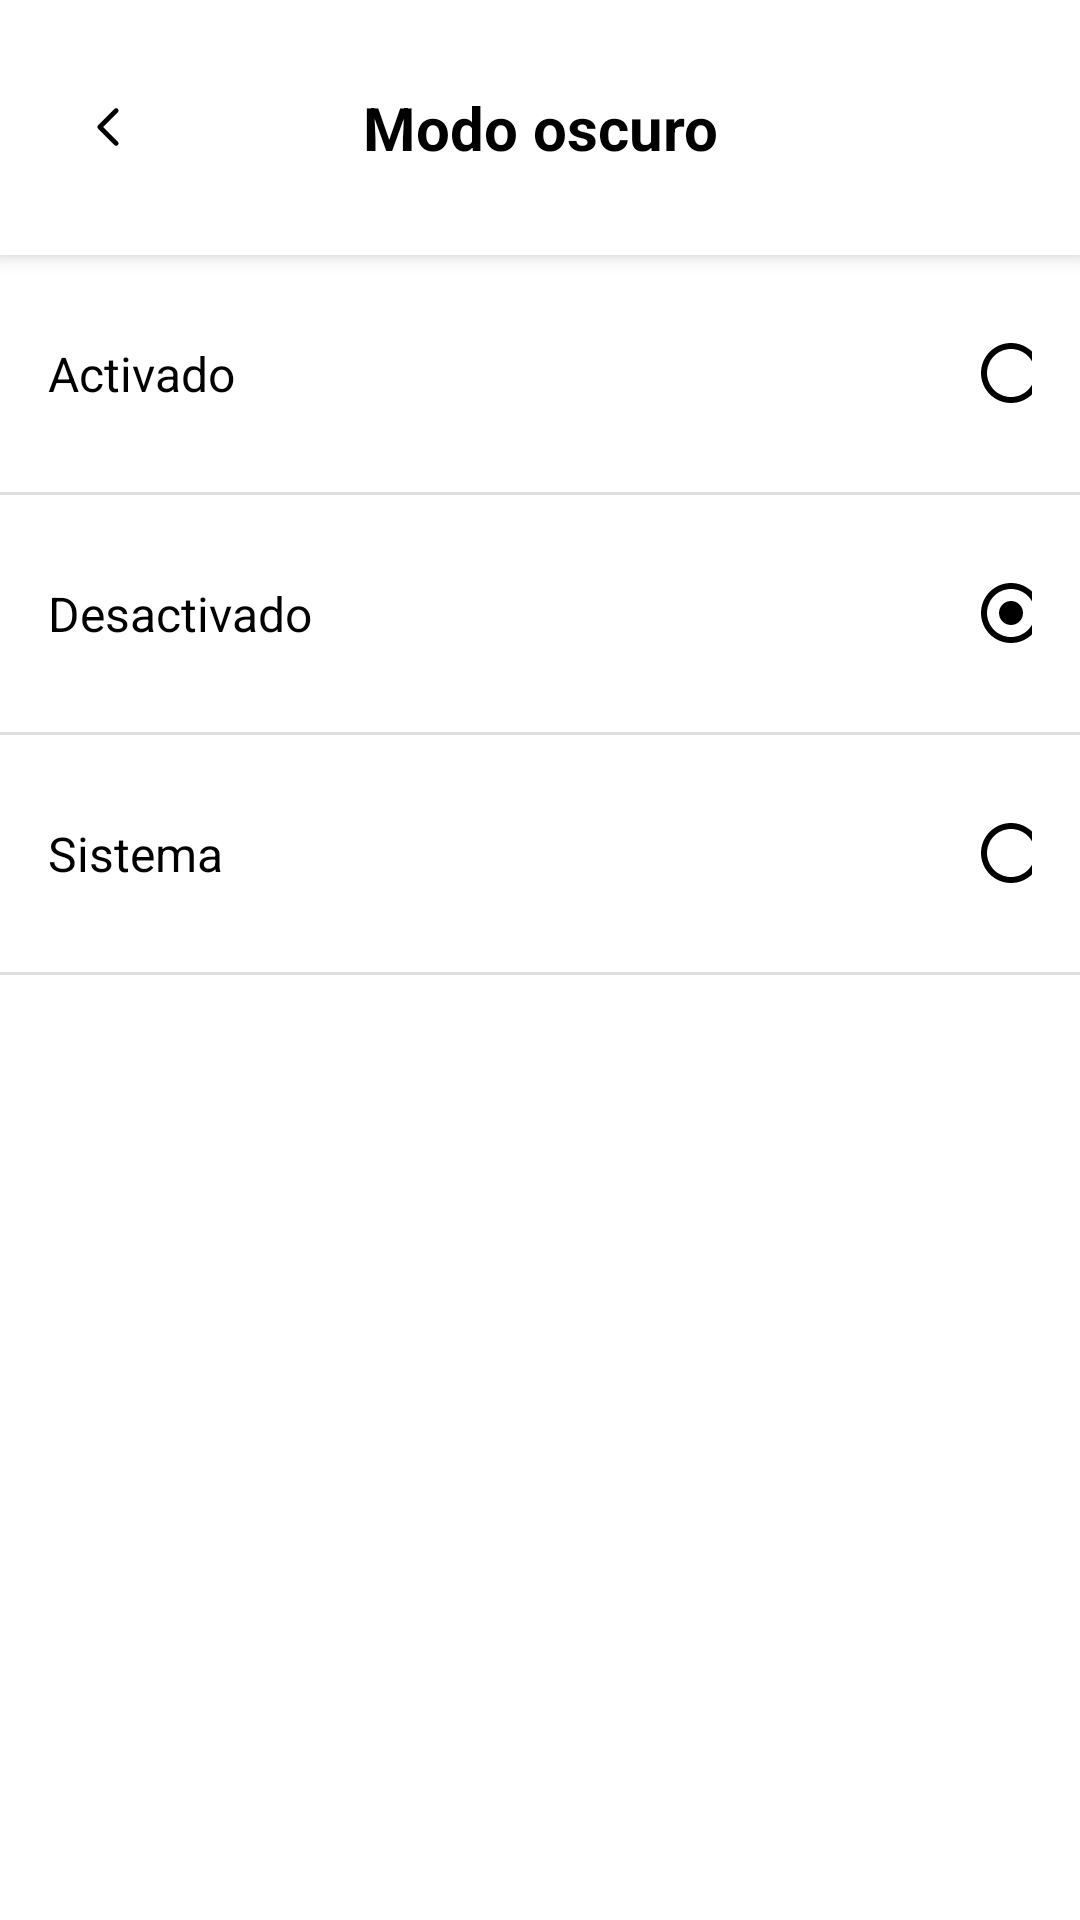

Screen size 1080w x 1920h. Icon name, then its box in pixels as (x1, y1, x2, y2):
Atrás: (97, 108, 119, 146)
radio checked: (981, 583, 1032, 643)
radio unchecked: (981, 343, 1032, 403), (981, 823, 1032, 883)
